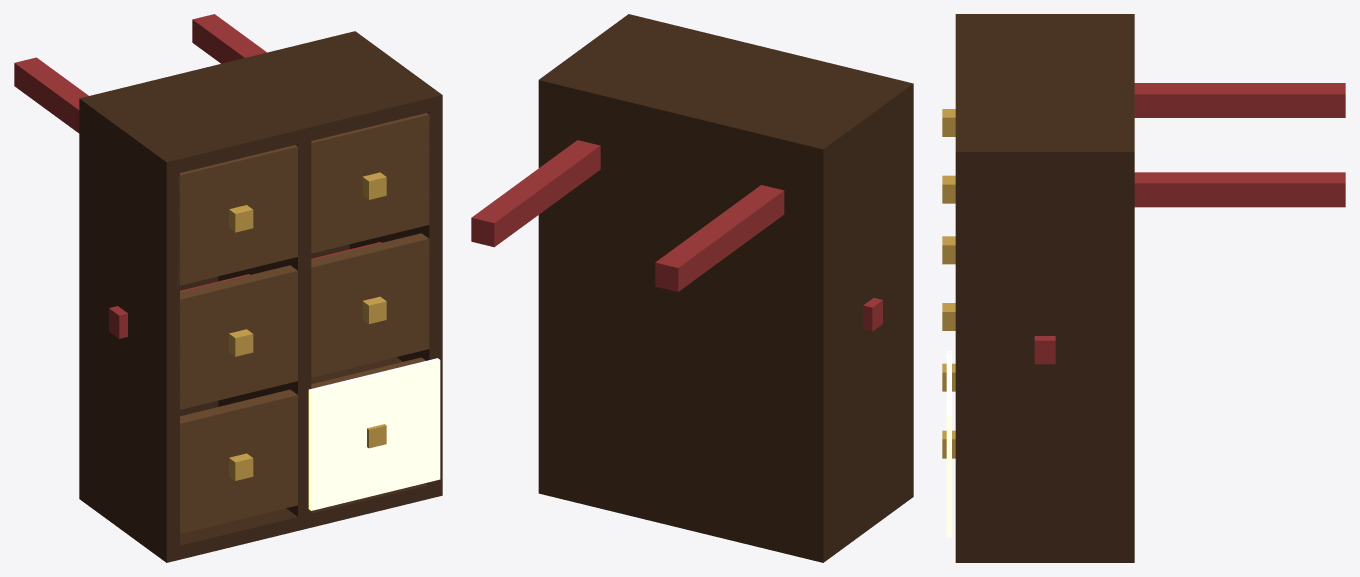
The model's file is prop_yakjang.glb.
The picture shows the model from 3 angles, left to right: view 1: azimuth 30°, elevation 25°; view 2: azimuth 150°, elevation 25°; view 3: azimuth 270°, elevation 25°; orthographic projection. The views are drawn at different scales.
Visible parts, largest first — view 1: Body, Drawer_BL_glow, Drawer_BL; view 2: Body; view 3: Body, Drawer_BL_glow.
Boxes of the visible parts, bbox=[...] form: Body: bbox=[14, 14, 442, 562]; Drawer_BL_glow: bbox=[308, 358, 440, 510]; Drawer_BL: bbox=[311, 357, 425, 448]; Body: bbox=[471, 14, 913, 562]; Body: bbox=[942, 14, 1345, 562]; Drawer_BL_glow: bbox=[946, 351, 951, 537].
Size of the model in its own units: 0.66 by 0.86 by 0.765.
